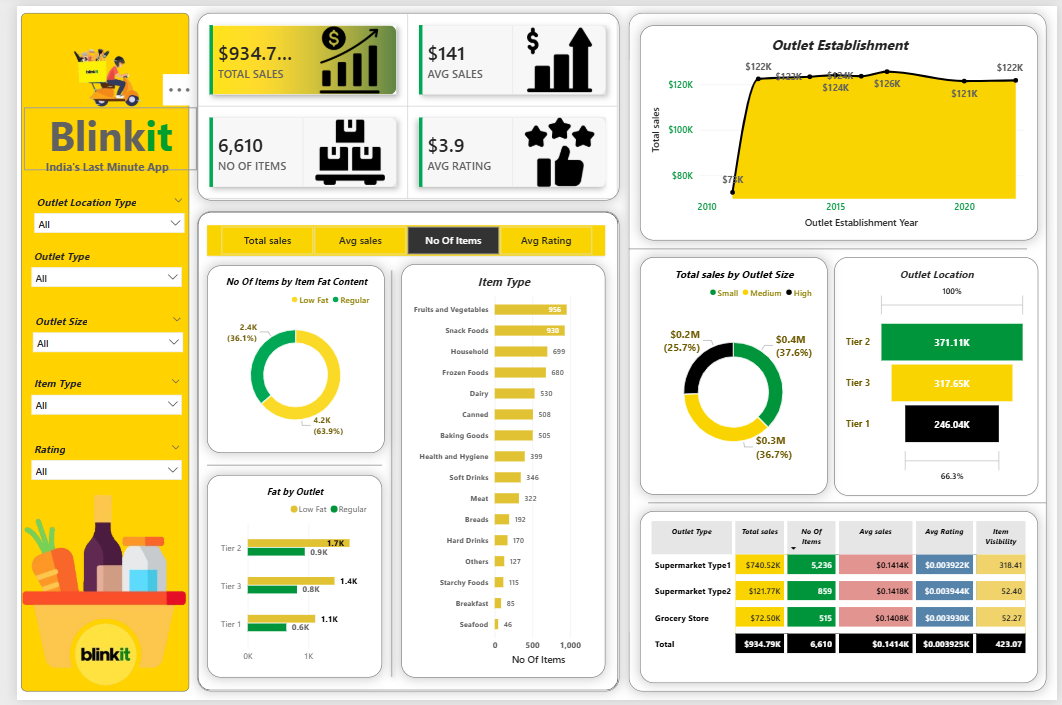

The page's visual inventory and layout, read from the dashboard file:
{"tool":"powerbi","page":{"name":"Page 1","canvas":[1500,1000],"ordinal":0},"visuals":[{"type":"shape","box":[6,10,242,978],"z":0},{"type":"shape","box":[260,296,608,692],"z":1000},{"type":"shape","box":[882,10,602,978],"z":2000},{"type":"shape","box":[274,620,252,84],"z":3000},{"type":"shape","box":[508,372,64,604],"z":4000},{"type":"textbox","box":[10,146,250,90],"z":5000},{"type":"textbox","box":[10,220,236,34],"z":6000},{"type":"cardVisual","fields":{"Data":["BlinkIT Grocery Data.Total sales","BlinkIT Grocery Data.Avg sales","BlinkIT Grocery Data.No Of Items","BlinkIT Grocery Data.Avg Rating"]},"box":[260,10,608,270],"z":7000},{"type":"donutChart","fields":{"Category":["BlinkIT Grocery Data.Item Fat Content"],"Y":["BlinkIT Grocery Data.Total sales"]},"box":[274,374,256,270],"z":8000},{"type":"slicer","fields":{"Values":["Metrics.Metrics"]},"box":[274,316,574,44],"z":9000},{"type":"hundredPercentStackedBarChart","title":"Fat by Outlet","fields":{"Category":["BlinkIT Grocery Data.Outlet Location Type"],"Series":["BlinkIT Grocery Data.Item Fat Content"],"Y":["BlinkIT Grocery Data.Total sales"]},"box":[274,676,252,292],"z":10000},{"type":"barChart","title":"Item Type ","fields":{"Category":["BlinkIT Grocery Data.Item Type"],"Y":["BlinkIT Grocery Data.Total sales"]},"box":[554,372,294,596],"z":11000},{"type":"lineChart","title":" Outlet Establishment","fields":{"Category":["BlinkIT Grocery Data.Outlet Establishment Year"],"Y":["BlinkIT Grocery Data.Total sales"]},"box":[897.3,28.3,574,309.1],"z":12000},{"type":"shape","box":[897.3,199.6,574,300.3],"z":13000},{"type":"pieChart","fields":{"Category":["BlinkIT Grocery Data.Outlet Size"],"Y":["BlinkIT Grocery Data.Total sales"]},"box":[898,362,270,342],"z":14000},{"type":"funnel","title":" Outlet Location ","fields":{"Category":["BlinkIT Grocery Data.Outlet Location Type"],"Y":["Sum(BlinkIT Grocery Data.Sales)"]},"box":[1178,362,294,344],"z":15000},{"type":"pivotTable","fields":{"Rows":["BlinkIT Grocery Data.Outlet Type"],"Values":["BlinkIT Grocery Data.Total sales","BlinkIT Grocery Data.No Of Items","BlinkIT Grocery Data.Avg sales","BlinkIT Grocery Data.Avg Rating","Sum(BlinkIT Grocery Data.Item Visibility)"]},"box":[898,728,574,248],"z":16000},{"type":"shape","box":[910,662,574,108],"z":17000},{"type":"slicer","fields":{"Values":["BlinkIT Grocery Data.Outlet Location Type"]},"box":[14.3,317.1,225.7,87.8],"z":18000},{"type":"slicer","fields":{"Values":["BlinkIT Grocery Data.Outlet Size"]},"box":[14.3,499.9,225.7,87.8],"z":19000},{"type":"slicer","fields":{"Values":["BlinkIT Grocery Data.Item Type"]},"box":[14.3,594.8,225.7,80.6],"z":20000},{"type":"slicer","fields":{"Values":["BlinkIT Grocery Data.Outlet Type"]},"box":[14.3,417.4,225.7,82.4],"z":21000},{"type":"image","box":[6,6,242,152],"z":22000},{"type":"image","box":[10.7,645,234.7,342.2],"z":23000},{"type":"textbox","box":[16.1,268.7,143.3,46.6],"z":24000}]}

Visuals, with their boxes in screenshot pixels (x1, y1, x2, y2), scaled from the page's 1500x1000 canvas onto the 1062x705 screenshot:
shape: x1=4 y1=7 x2=176 y2=697
shape: x1=184 y1=209 x2=615 y2=697
shape: x1=624 y1=7 x2=1051 y2=697
shape: x1=194 y1=437 x2=372 y2=496
shape: x1=360 y1=262 x2=405 y2=688
textbox: x1=7 y1=103 x2=184 y2=166
textbox: x1=7 y1=155 x2=174 y2=179
cardVisual - BlinkIT Grocery Data.Total sales x BlinkIT Grocery Data.Avg sales: x1=184 y1=7 x2=615 y2=197
donutChart - BlinkIT Grocery Data.Item Fat Content x BlinkIT Grocery Data.Total sales: x1=194 y1=264 x2=375 y2=454
slicer - Metrics.Metrics: x1=194 y1=223 x2=600 y2=254
"Fat by Outlet" hundredPercentStackedBarChart: x1=194 y1=477 x2=372 y2=682
"Item Type " barChart: x1=392 y1=262 x2=600 y2=682
" Outlet Establishment" lineChart: x1=635 y1=20 x2=1042 y2=238
shape: x1=635 y1=141 x2=1042 y2=352
pieChart - BlinkIT Grocery Data.Outlet Size x BlinkIT Grocery Data.Total sales: x1=636 y1=255 x2=827 y2=496
" Outlet Location " funnel: x1=834 y1=255 x2=1042 y2=498
pivotTable - BlinkIT Grocery Data.Outlet Type x BlinkIT Grocery Data.Total sales: x1=636 y1=513 x2=1042 y2=688
shape: x1=644 y1=467 x2=1051 y2=543
slicer - BlinkIT Grocery Data.Outlet Location Type: x1=10 y1=224 x2=170 y2=285
slicer - BlinkIT Grocery Data.Outlet Size: x1=10 y1=352 x2=170 y2=414
slicer - BlinkIT Grocery Data.Item Type: x1=10 y1=419 x2=170 y2=476
slicer - BlinkIT Grocery Data.Outlet Type: x1=10 y1=294 x2=170 y2=352
image: x1=4 y1=4 x2=176 y2=111
image: x1=8 y1=455 x2=174 y2=696
textbox: x1=11 y1=189 x2=113 y2=222
